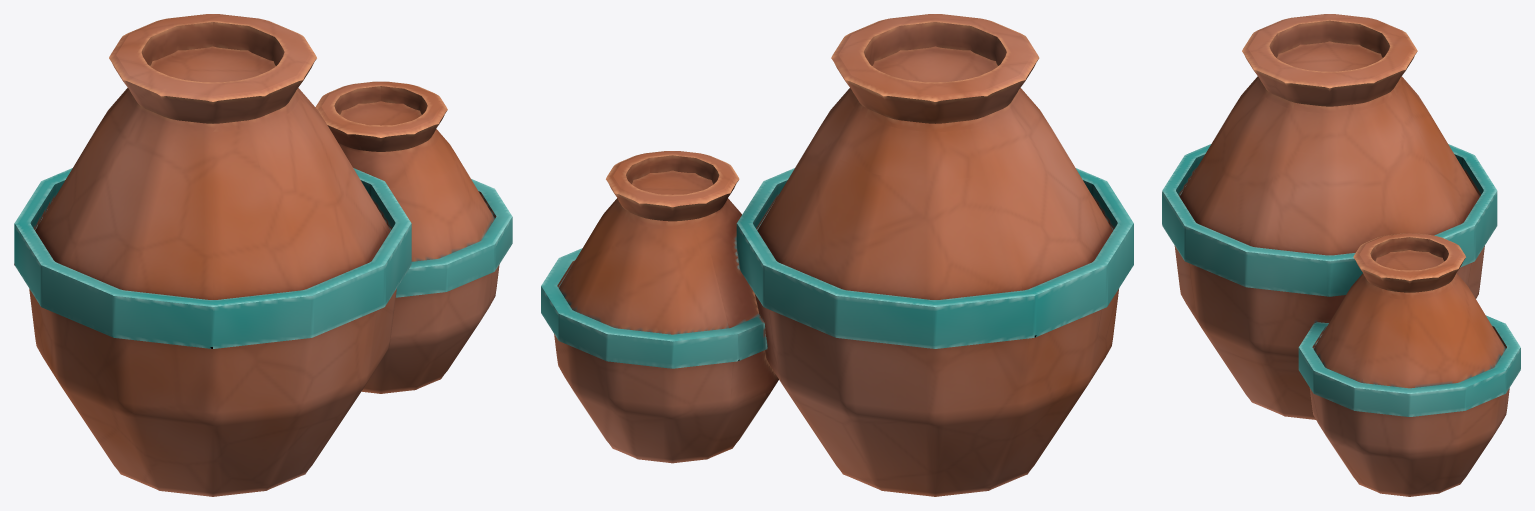
Rendered from Desert_Jarre.fbx.
3 renders of one model, left to right at view 1: azimuth 30°, elevation 25°; view 2: azimuth 150°, elevation 25°; view 3: azimuth 270°, elevation 25°, orthographic. The views are drawn at different scales.
Visible parts, largest first — view 1: Desert_Jarre; view 2: Desert_Jarre; view 3: Desert_Jarre.
Boxes of the visible parts, x1,y1,x2,y2 form: Desert_Jarre: [14, 14, 512, 496]; Desert_Jarre: [541, 14, 1133, 496]; Desert_Jarre: [1162, 14, 1520, 496].
Size of the model in its own units: 489 by 374 by 359.
Materials: 1 (1 with a texture image).
